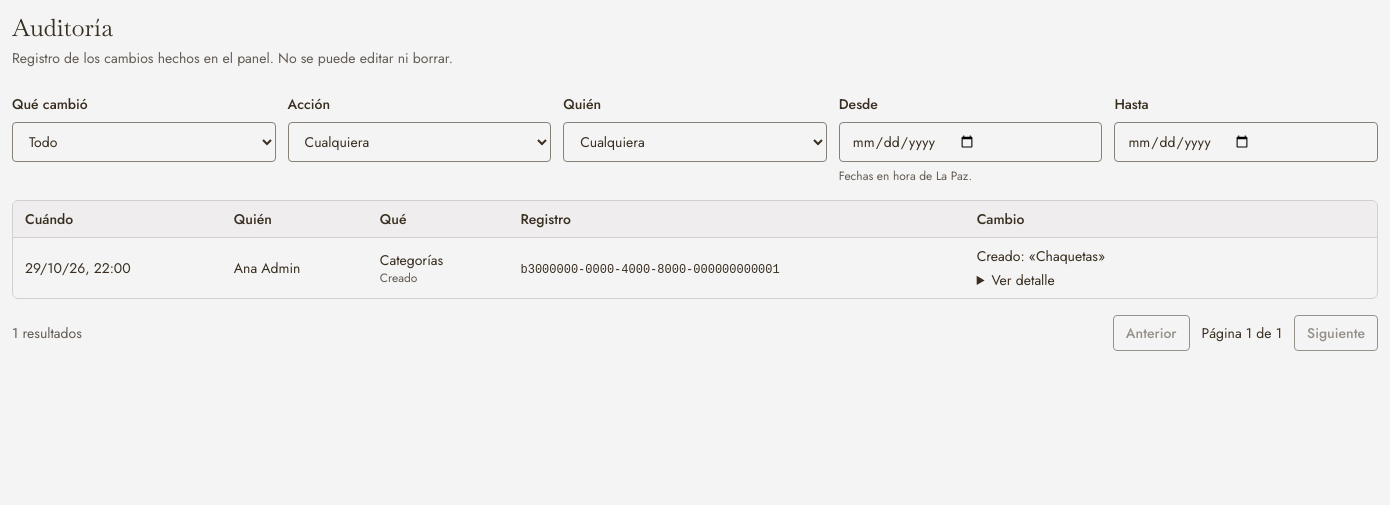
AuditPage › un alta muestra «Creado: nombre» y el detalle lista los valores
This screenshot has width=1390, height=505.
Expected: the text "Creado: «Chaquetas»" is shown, x1=977 y1=246 x2=1105 y2=266
Click the heading "Ver detalle" at (1061, 280), box x1=992 y1=269 x2=1131 y2=290
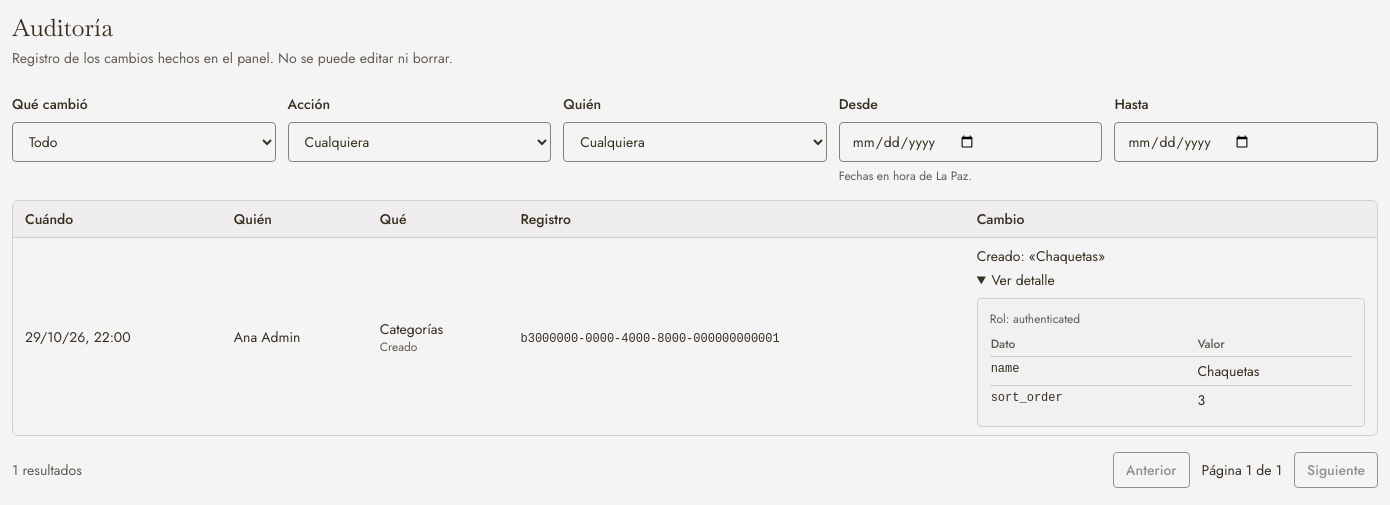
Expected: the column heading "Valor" is shown, x1=1196 y1=335 x2=1352 y2=356
Expected: the text "3" is shown, x1=1196 y1=386 x2=1352 y2=414
